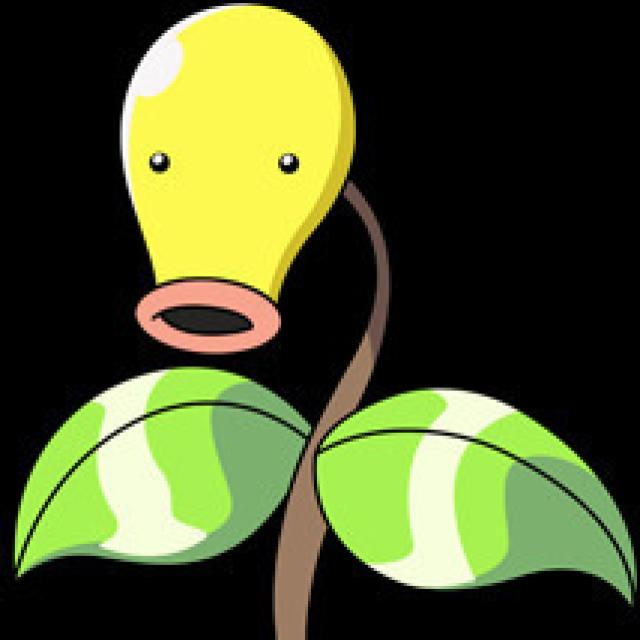Bellsprout: (109, 7, 418, 564)
